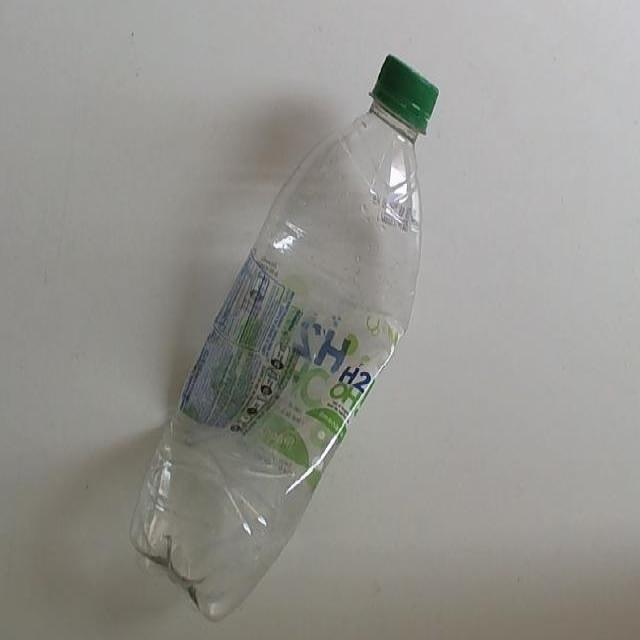defect: (125, 51, 441, 626)
